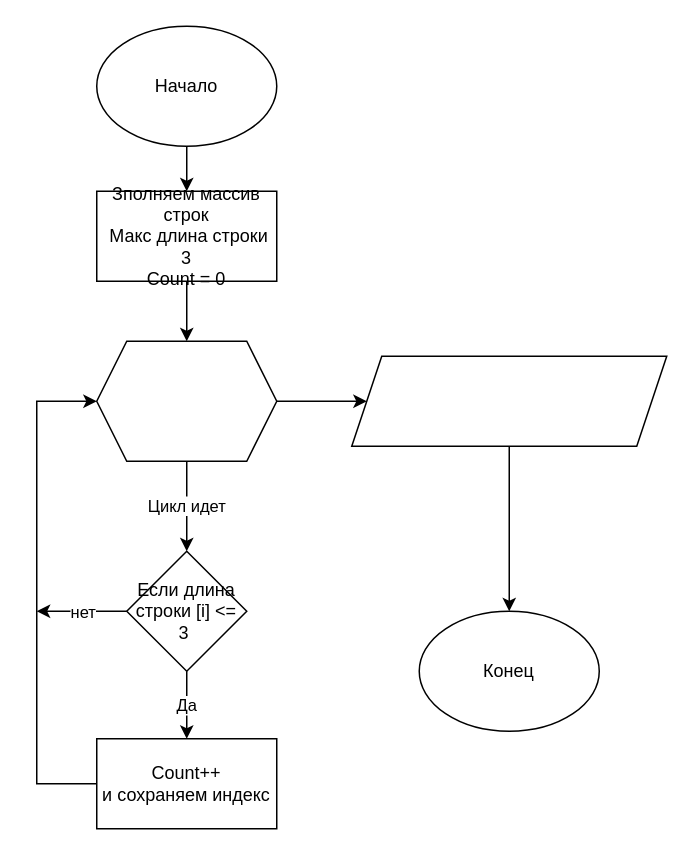
This 693x855 diagram has some shape labels left out. The box of each missing label's shape, as (x1, y1, x2, y2) in pixels:
Печатаем исходный массив Печатаем полученный массив: (350, 355, 667, 446)
Цикл For i = 0 i < array.length; i++: (95, 340, 277, 461)
